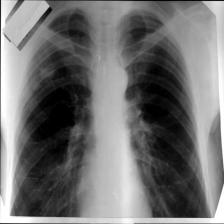tuberculosis: (10, 4, 213, 218)
